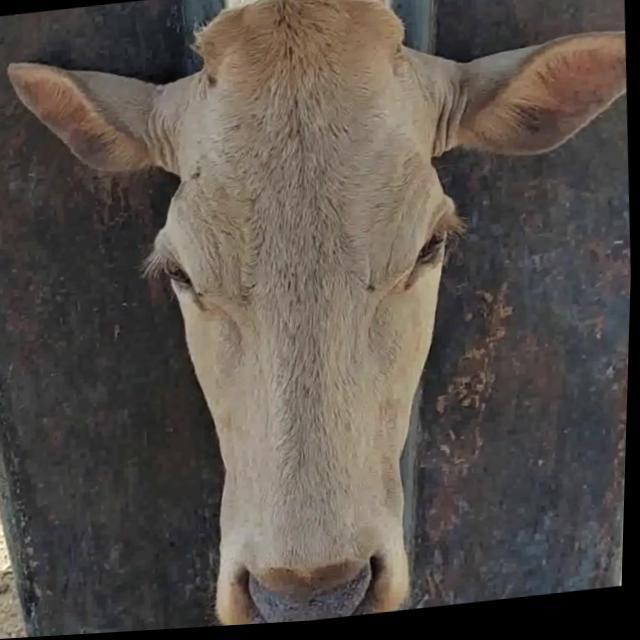cowFace: (143, 0, 483, 633)
